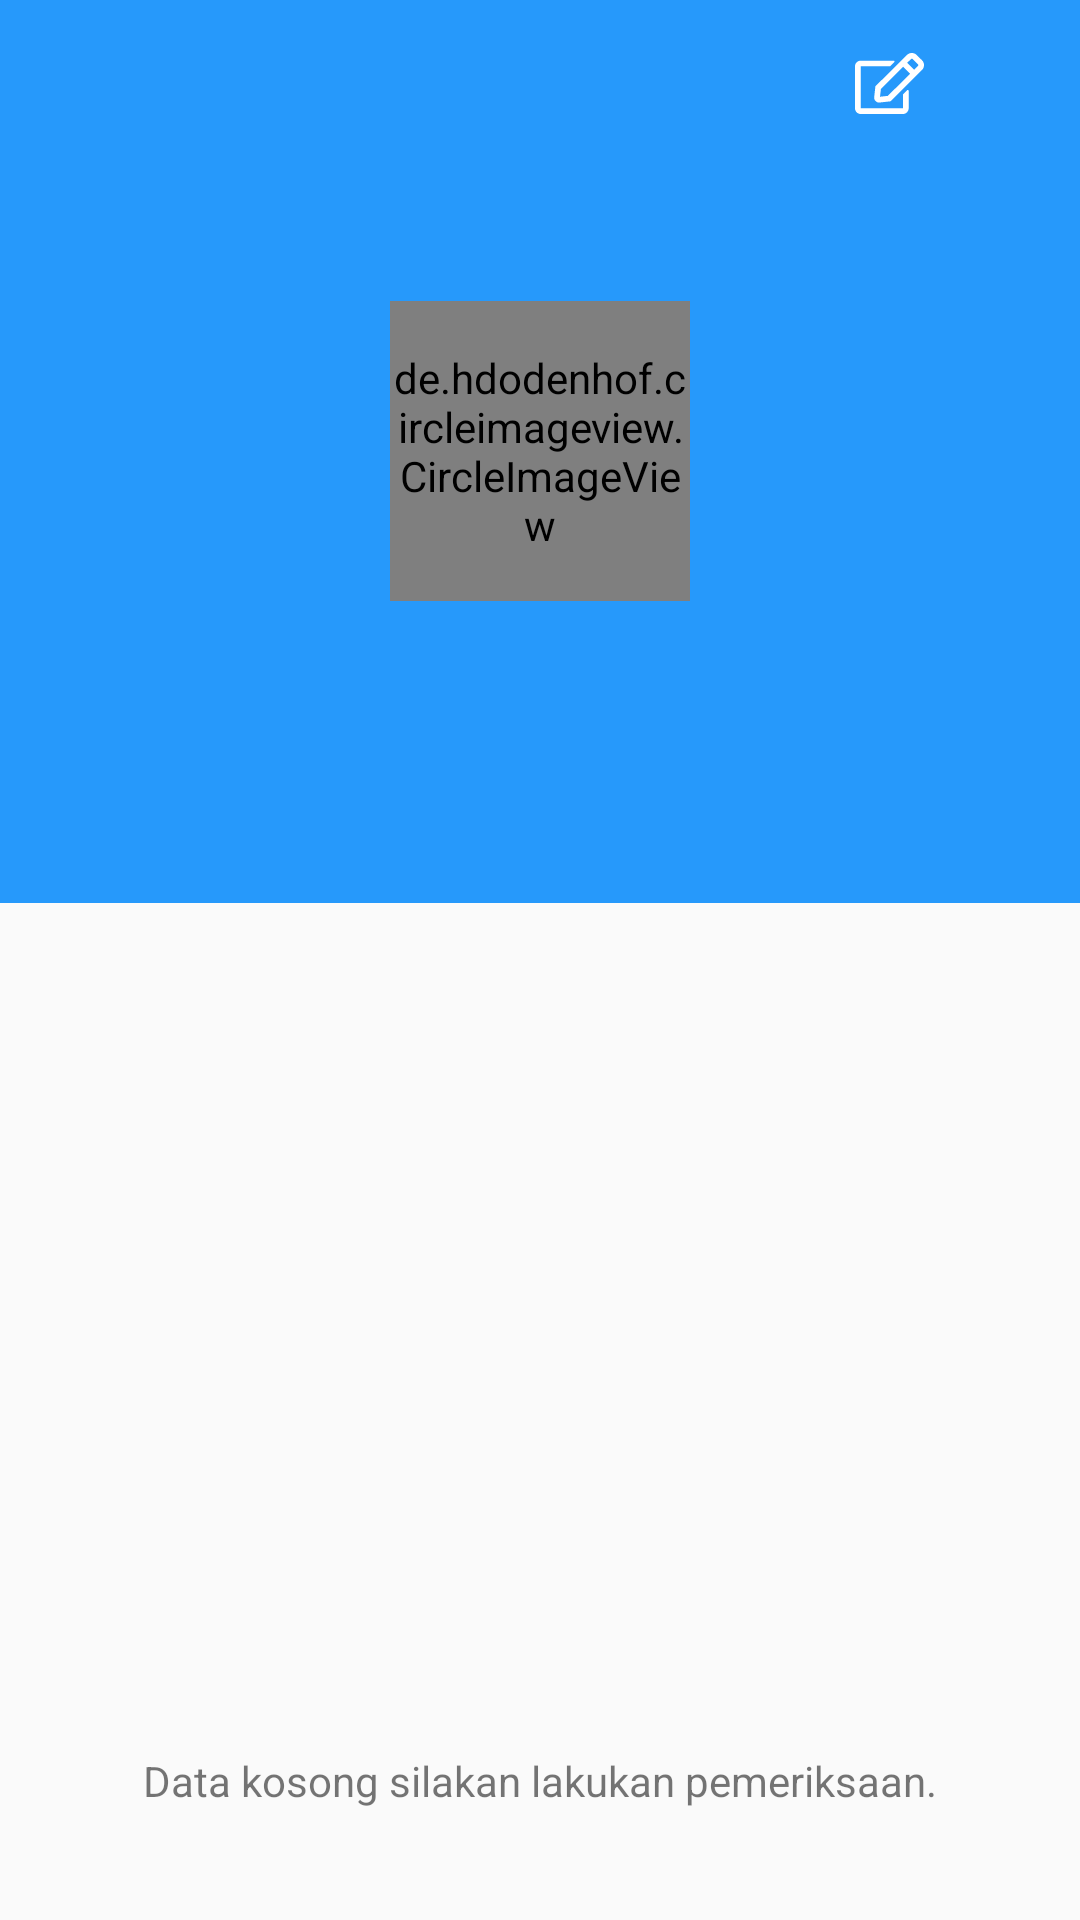

Screen size 1080px×1920px. Icon name, then its center in pixels as (x,y):
edit: (889,83)
